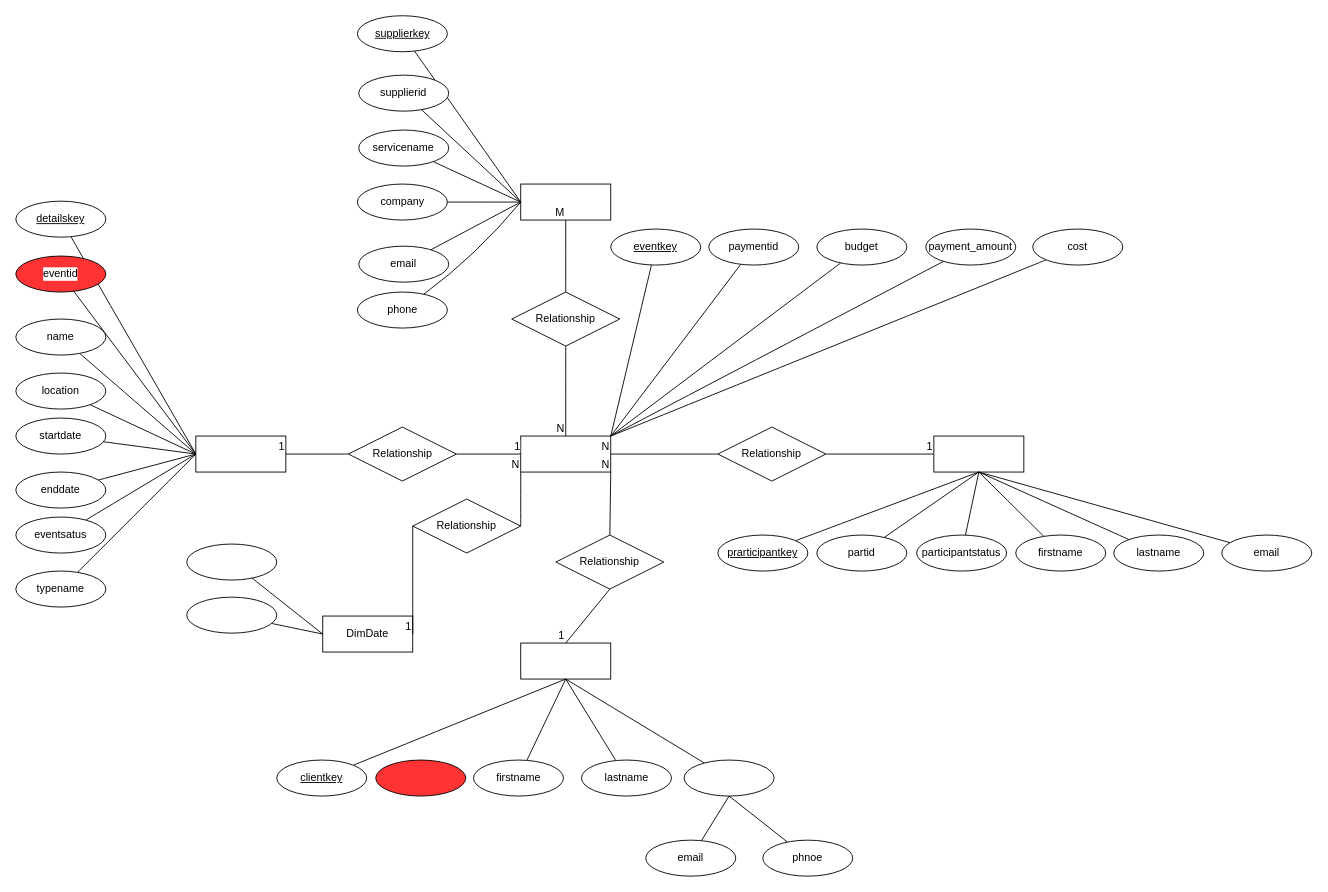
Some shapes in this 1328 by 892 pixel diagram are drawn without their labels. Each missing label, with the centre of its shape:
clientid: the point at 420,777
contact: the point at 728,777
date: the point at 231,614
datekey: the point at 231,561
DimClients: the point at 565,660
DimDetails: the point at 240,453
DimParticipant: the point at 978,453
DimSuppliers: the point at 565,201
FactEvent: the point at 565,453
